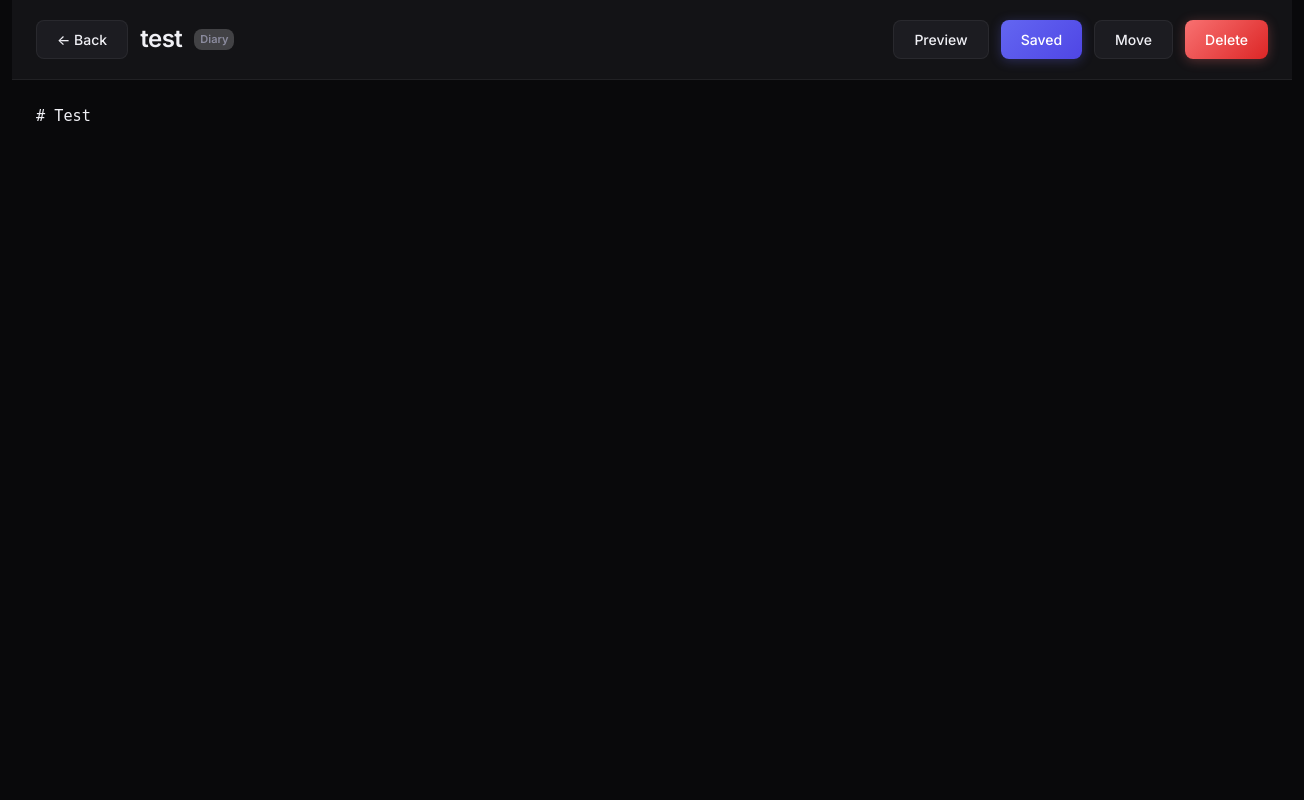
NoteEditor Component › Manual Save › shows Save failed when save fails
The image size is (1304, 800).
Replace the text in the text box showing "# Test" with "# Modified": [652, 440] box [12, 80, 1292, 799]
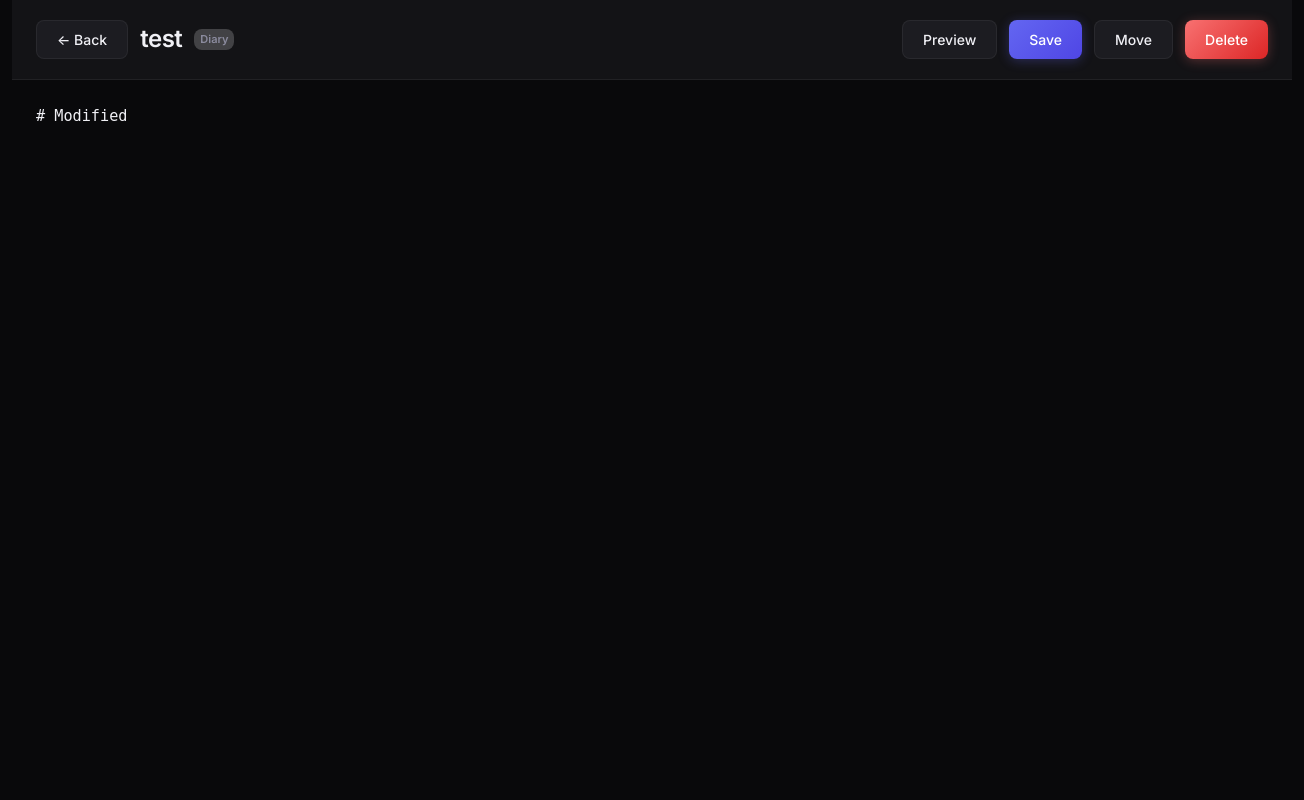
Note: Click save
Click the button "Save": [1046, 40] box [1009, 20, 1082, 59]
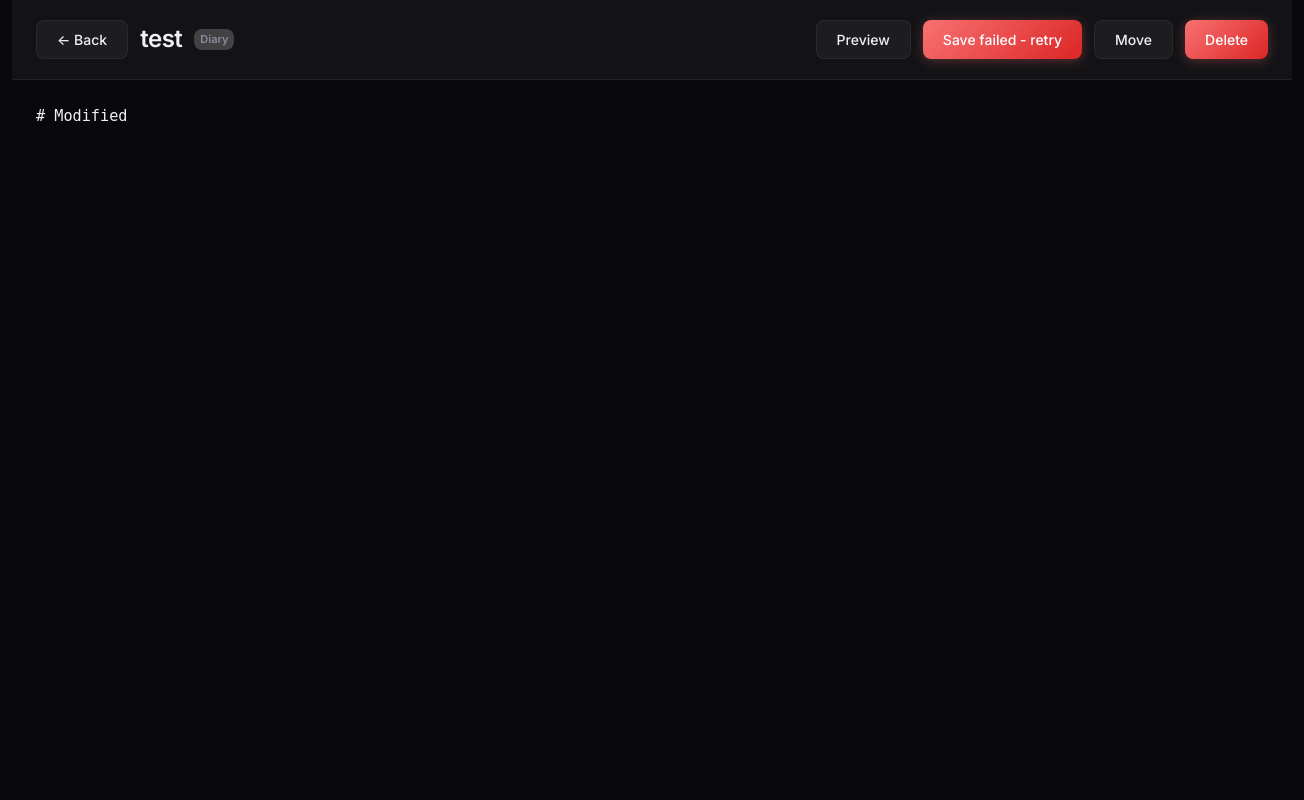
Expected: the button "Save failed - retry" is shown, [923, 20, 1082, 59]
